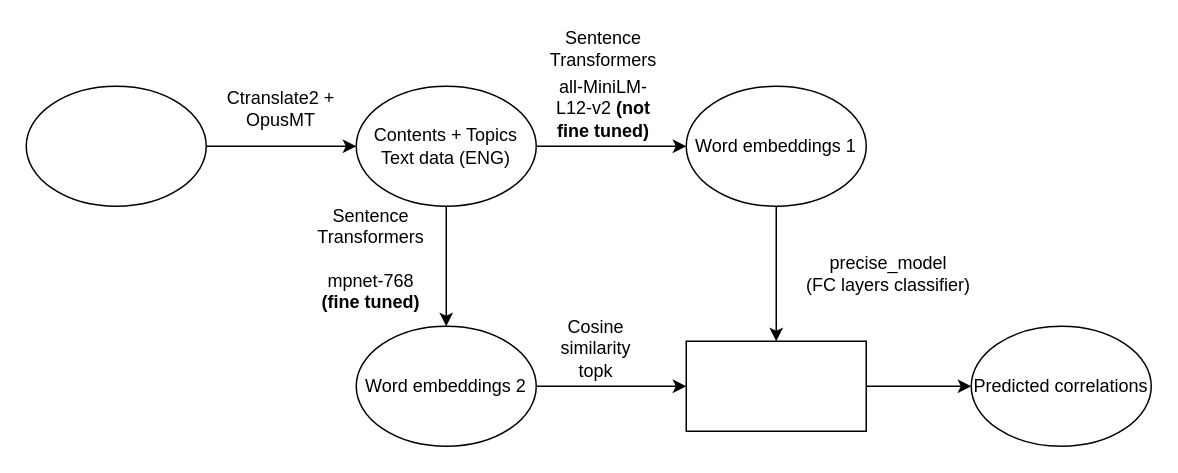
This 1178x473 diagram has some shape labels left out. Here are the shapes that lost their labels. From the top down, the box of each, then its label:
(25, 85, 206, 206): Contents + Topics Text data
(685, 340, 866, 431): Intersection
